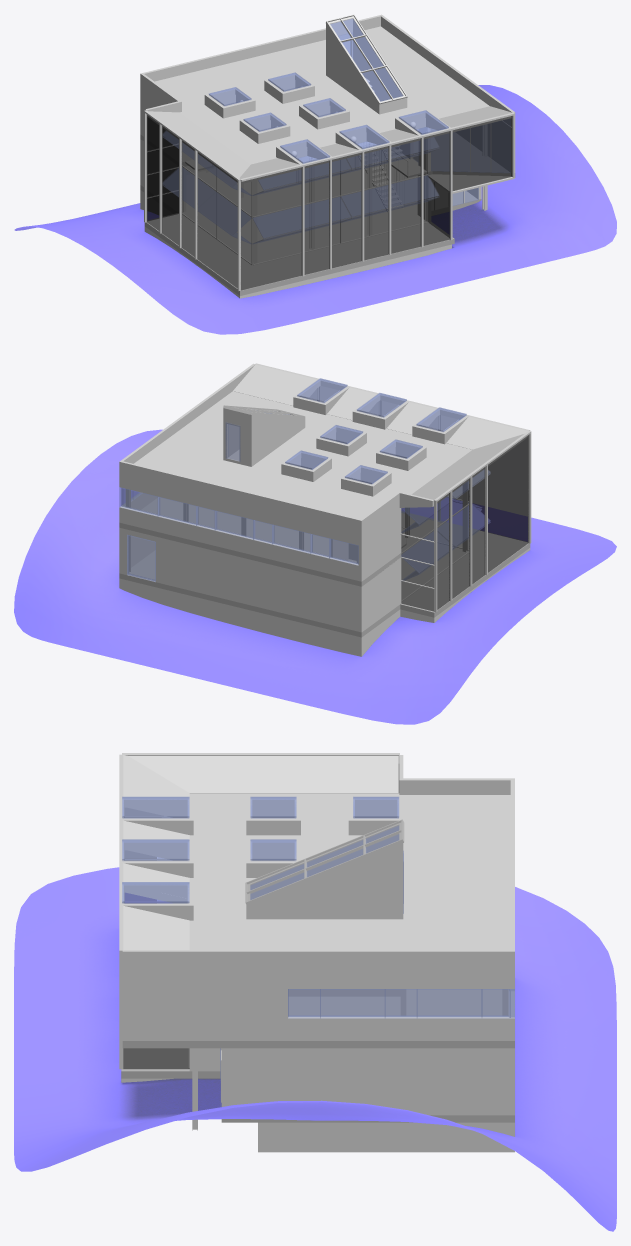
The model's file is workshop.glb.
The picture shows the model from 3 angles, top to bottom: view 1: azimuth 30°, elevation 25°; view 2: azimuth 150°, elevation 25°; view 3: azimuth 270°, elevation 25°; orthographic projection. The views are drawn at different scales.
Visible parts, largest first — view 1: Plane, Floor Generic - 12" [573914], Basic Roof Generic - 12" [573614], System Panel Glazed [586766], System Panel Glazed [665401], System Panel Glazed [665474], bifold1 bifold1 [680018], System Panel Glazed [589837], System Panel Glazed [664228], bifold3 bifold1 [682608], System Panel Glazed [664341], System Panel Glazed [589798] (+41 smaller); view 2: Plane, Basic Roof Generic - 12" [573614], Basic Wall Generic - 8" [573592], Floor Generic - 12" [573914], Basic Wall Generic - 8" [573595], Floor Generic - 12" [573601], Basic Wall Concrete - 8" [595001], System Panel Glazed [665401], Basic Wall Generic - 8" [573594], System Panel Glazed [586766], Basic Roof Generic - 12" [657205], Basic Wall Generic - 6" [573920] (+31 smaller); view 3: Plane, Basic Roof Generic - 12" [573614], Basic Wall Generic - 8" [573596], Basic Wall Generic - 8" [573589], Basic Roof Generic - 12" [657205], Floor Generic - 12" [573601], Basic Wall Concrete - 8" [595034], Basic Wall Generic - 6" [573921], Basic Wall Generic - 6" [668400], Floor Generic - 12" [573914], Basic Roof Basic roof 12" [673855], AD_Adjustable window Adjustable Window 4' [593048] (+23 smaller).
Boxes of the visible parts, left/top/right/bottom form: Plane: left=14, top=85, right=616, bottom=334; Floor Generic - 12" [573914]: left=140, top=143, right=481, bottom=295; Basic Roof Generic - 12" [573614]: left=140, top=26, right=489, bottom=164; System Panel Glazed [586766]: left=241, top=167, right=301, bottom=290; System Panel Glazed [665401]: left=197, top=152, right=237, bottom=288; System Panel Glazed [665474]: left=452, top=116, right=511, bottom=190; bifold1 bifold1 [680018]: left=253, top=156, right=350, bottom=243; System Panel Glazed [589837]: left=332, top=153, right=361, bottom=268; System Panel Glazed [664228]: left=391, top=138, right=420, bottom=253; bifold3 bifold1 [682608]: left=341, top=127, right=439, bottom=221; System Panel Glazed [664341]: left=423, top=131, right=449, bottom=245; System Panel Glazed [589798]: left=304, top=160, right=329, bottom=274; Plane: left=14, top=429, right=616, bottom=724; Basic Roof Generic - 12" [573614]: left=119, top=391, right=471, bottom=535; Basic Wall Generic - 8" [573592]: left=122, top=528, right=358, bottom=631; Floor Generic - 12" [573914]: left=119, top=511, right=530, bottom=637; Basic Wall Generic - 8" [573595]: left=119, top=477, right=358, bottom=580; Floor Generic - 12" [573601]: left=119, top=497, right=401, bottom=586; Basic Wall Concrete - 8" [595001]: left=119, top=578, right=363, bottom=656; System Panel Glazed [665401]: left=488, top=435, right=528, bottom=572; Basic Wall Generic - 8" [573594]: left=358, top=508, right=401, bottom=632; System Panel Glazed [586766]: left=468, top=437, right=527, bottom=541; Basic Roof Generic - 12" [657205]: left=411, top=416, right=527, bottom=503; Basic Wall Generic - 6" [573920]: left=121, top=461, right=362, bottom=530; Plane: left=14, top=867, right=616, bottom=1231; Basic Roof Generic - 12" [573614]: left=189, top=793, right=514, bottom=973; Basic Wall Generic - 8" [573596]: left=122, top=974, right=509, bottom=1040; Basic Wall Generic - 8" [573589]: left=221, top=1048, right=514, bottom=1115; Basic Roof Generic - 12" [657205]: left=123, top=755, right=398, bottom=817; Floor Generic - 12" [573601]: left=122, top=989, right=514, bottom=1048; Basic Wall Concrete - 8" [595034]: left=258, top=1122, right=509, bottom=1152; Basic Wall Generic - 6" [573921]: left=122, top=950, right=514, bottom=973; Basic Wall Generic - 6" [668400]: left=250, top=843, right=399, bottom=919; Floor Generic - 12" [573914]: left=121, top=1048, right=514, bottom=1122; Basic Roof Basic roof 12" [673855]: left=123, top=906, right=189, bottom=949; AD_Adjustable window Adjustable Window 4' [593048]: left=320, top=989, right=385, bottom=1018.
Bounding box in the file's own units: 27.42 × 12.52 × 22.42.
4 materials, 1 textured.
